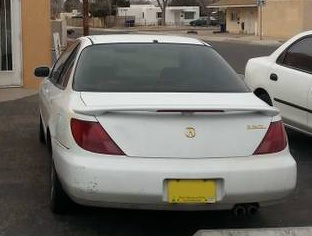acura: (30, 29, 302, 223)
